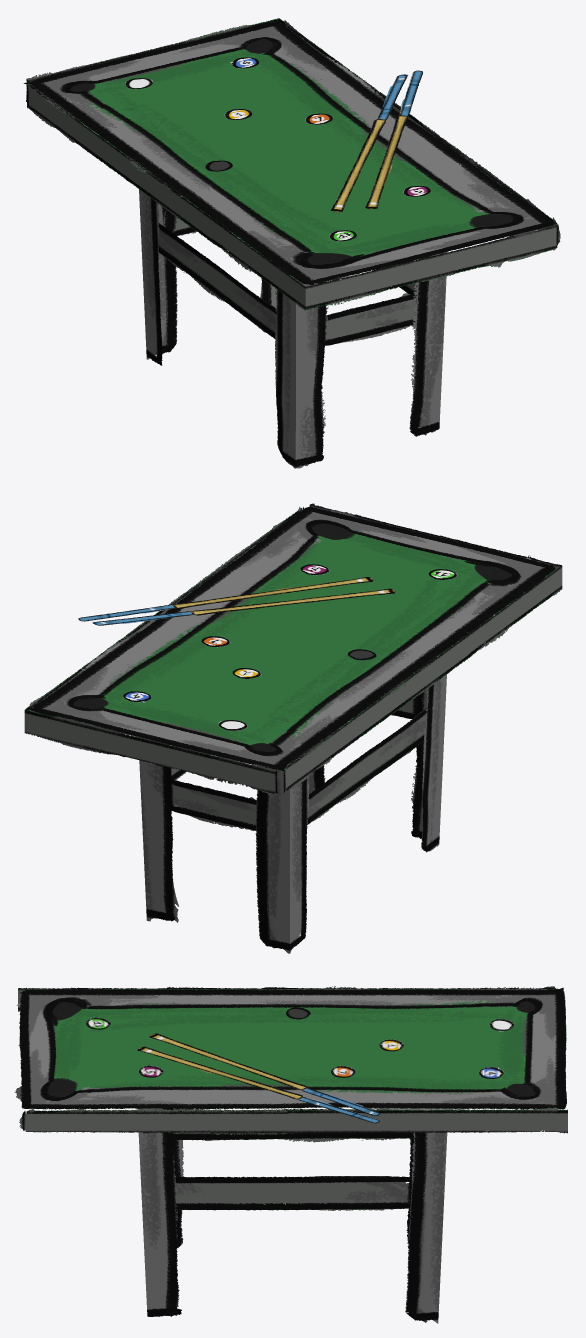
File: MSH_Billard.fbx
3 views of the same model, one above another, from view 1: azimuth 30°, elevation 25°; view 2: azimuth 150°, elevation 25°; view 3: azimuth 270°, elevation 25° (orthographic). The views are drawn at different scales.
Parts seen in each view (by area): view 1: MSH_Billard; view 2: MSH_Billard; view 3: MSH_Billard.
Part boxes in pixels (bbox=[...]): MSH_Billard: bbox=[23, 18, 560, 468]; MSH_Billard: bbox=[24, 503, 562, 953]; MSH_Billard: bbox=[14, 986, 567, 1323].
Bounding box in the file's own units: 1.3 × 0.9817 × 2.
1 material, 1 textured.
